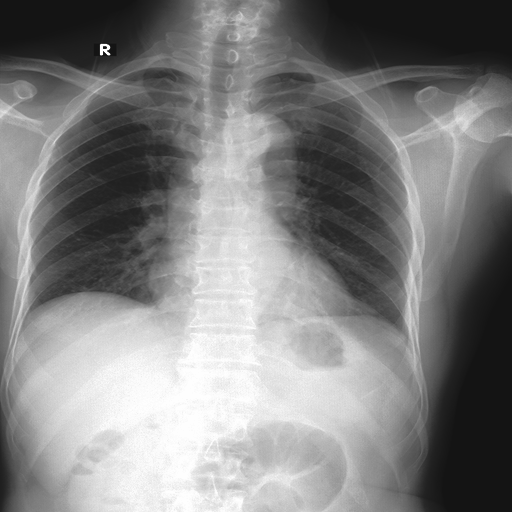Calcification: (127, 62, 178, 77), (265, 70, 312, 80)
Cardiomegaly: (32, 227, 136, 303)
Consolidation: (245, 113, 296, 172)
Nodule/Mass: (148, 248, 352, 311)
